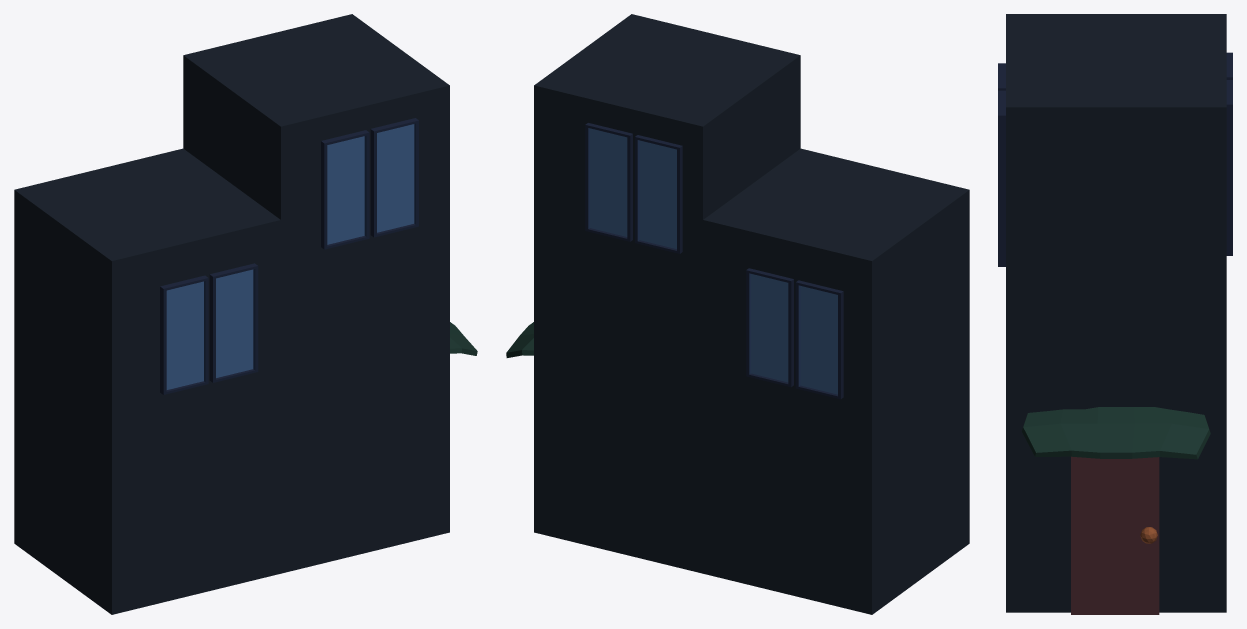
The model's file is SM_Env_Building_01.fbx.
3 renders of one model, left to right at view 1: azimuth 30°, elevation 25°; view 2: azimuth 150°, elevation 25°; view 3: azimuth 270°, elevation 25°, orthographic. The views are drawn at different scales.
Parts seen in each view (by area): view 1: Cube.003; view 2: Cube.003; view 3: Cube.003.
Boxes of the visible parts, <box> form: Cube.003: <box>14,14,477,614</box>; Cube.003: <box>506,14,969,614</box>; Cube.003: <box>998,14,1232,614</box>.
Bounding box in the file's own units: 532 × 1140 × 1264.
